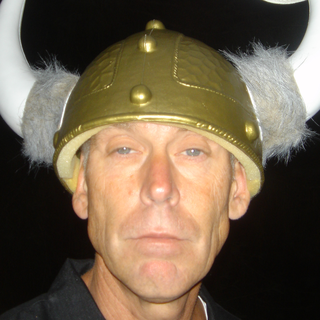eye: (104, 140, 145, 163), (175, 140, 211, 166)
